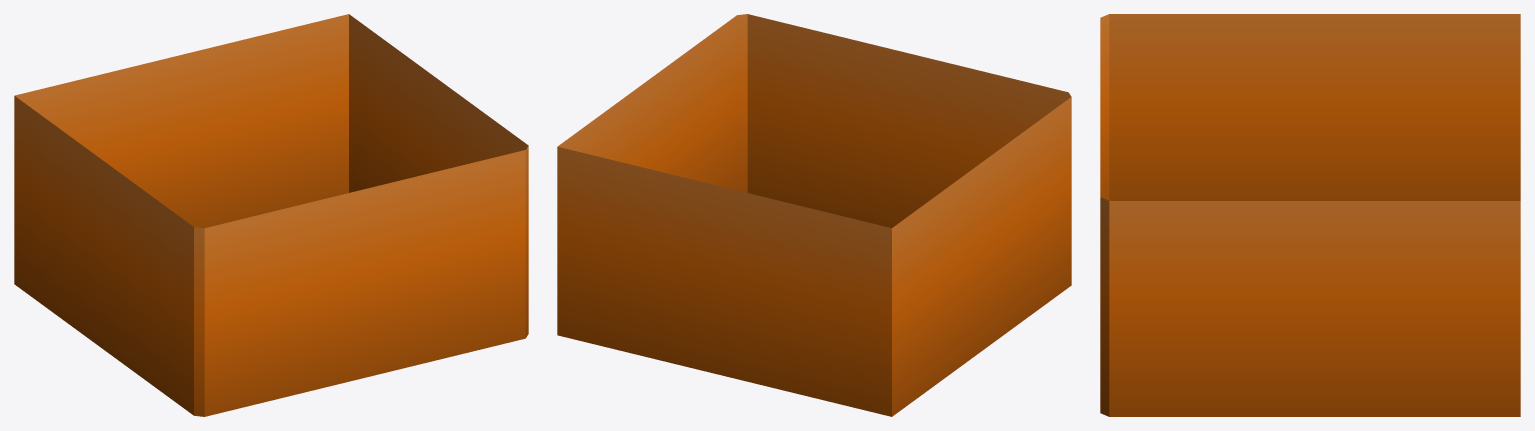
The model's file is Counter_01_C03.fbx.
The picture shows the model from 3 angles, left to right: view 1: azimuth 30°, elevation 25°; view 2: azimuth 150°, elevation 25°; view 3: azimuth 270°, elevation 25°; orthographic projection. The views are drawn at different scales.
Parts seen in each view (by area): view 1: Counter_01_C03; view 2: Counter_01_C03; view 3: Counter_01_C03.
Boxes of the visible parts, x1,y1,x2,y2 form: Counter_01_C03: (14, 14, 528, 416); Counter_01_C03: (557, 14, 1071, 416); Counter_01_C03: (1100, 14, 1520, 416).
Bounding box in the file's own units: 100 × 53.91 × 94.97.
